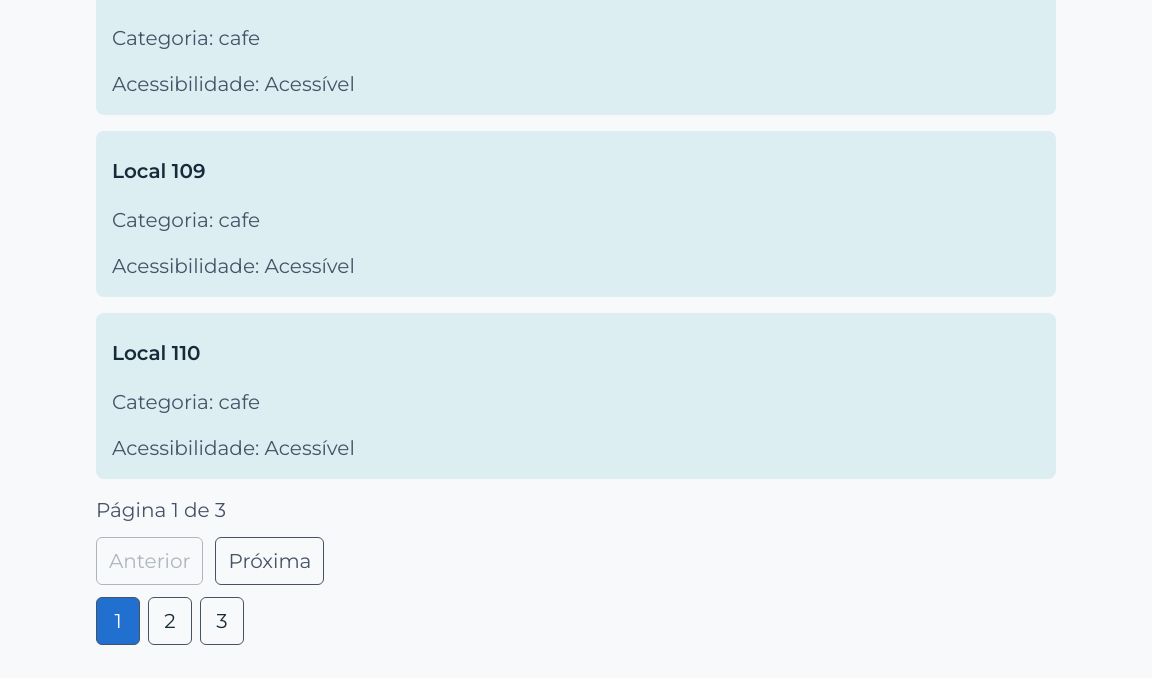
Integração da paginação de locais › divide os resultados em três páginas e respeita os limites
The image size is (1152, 678).
(page scrolled)
Expected: the button "Anterior" is disabled, [96,537,204,585]
Click the button "Próxima" at (270, 561), box [216,537,324,585]
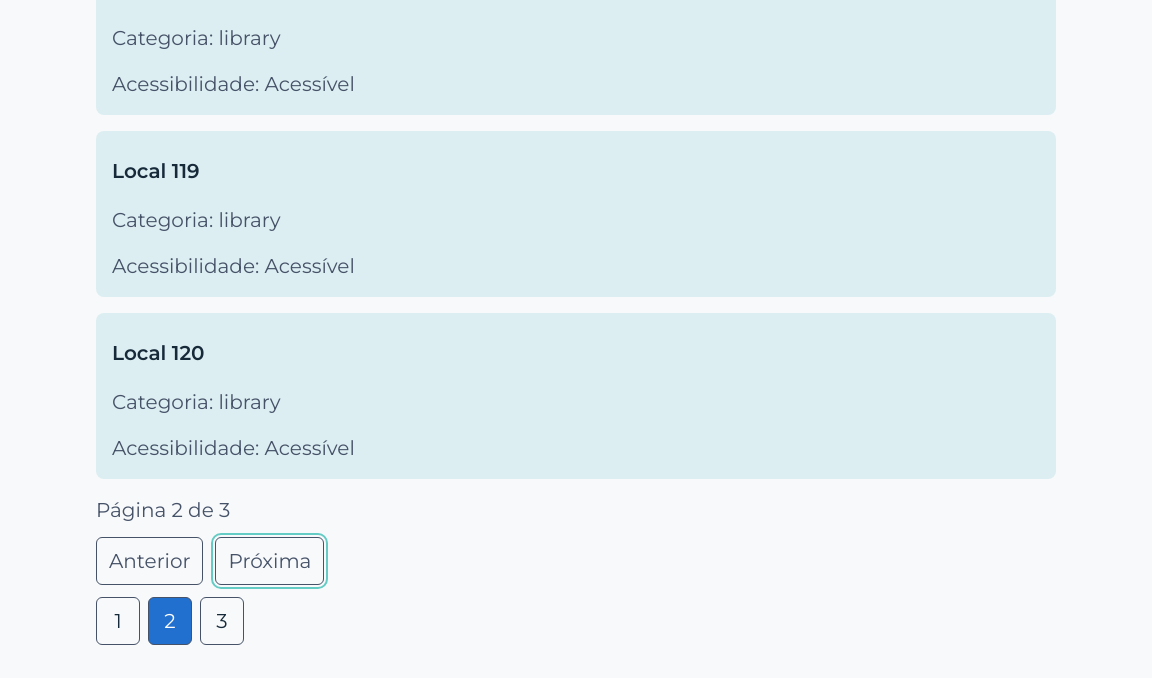
Click the button "Próxima" at (270, 561), box [216,537,324,585]
(page scrolled)
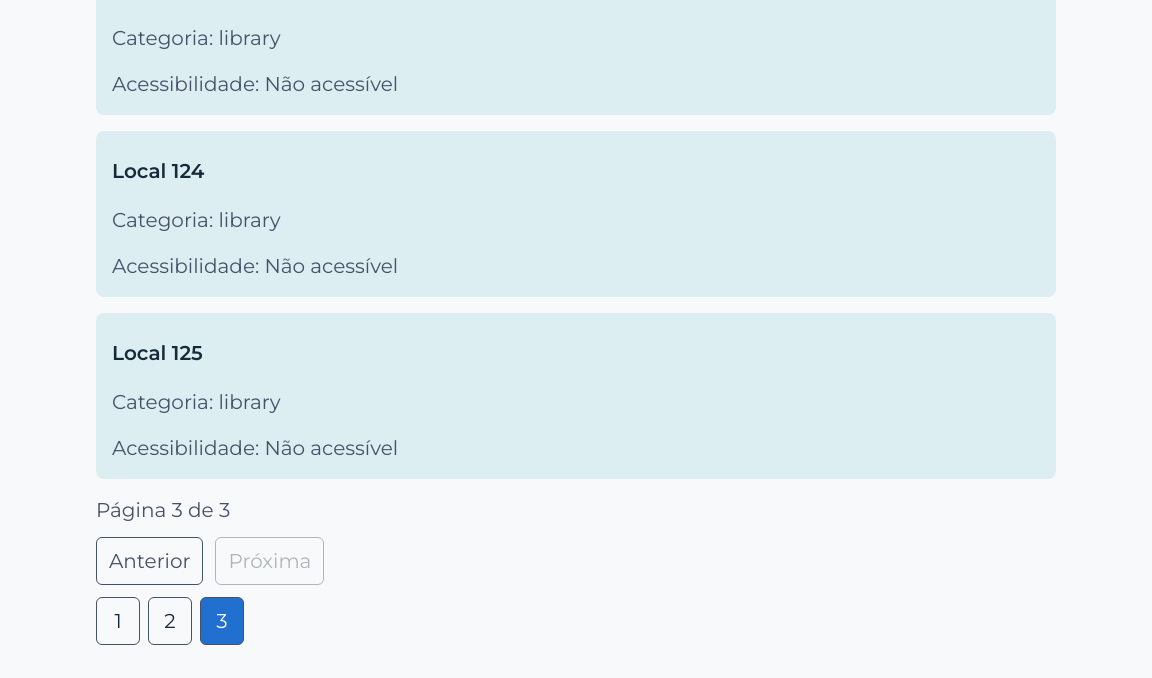
Expected: the button "Próxima" is disabled, [216,537,324,585]
Click the button "Anterior" at (150, 561), box [96,537,204,585]
(page scrolled)
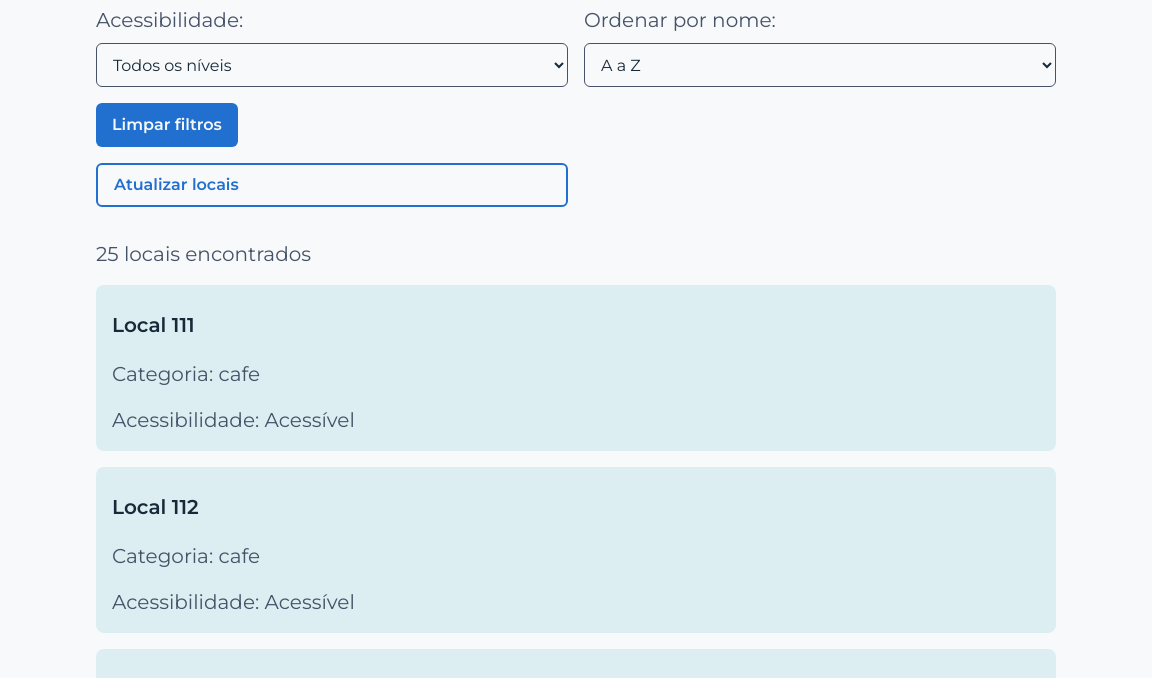
Expected: the number of links is 10
Expected: the link "Local 111" is shown, [112,313,195,337]
